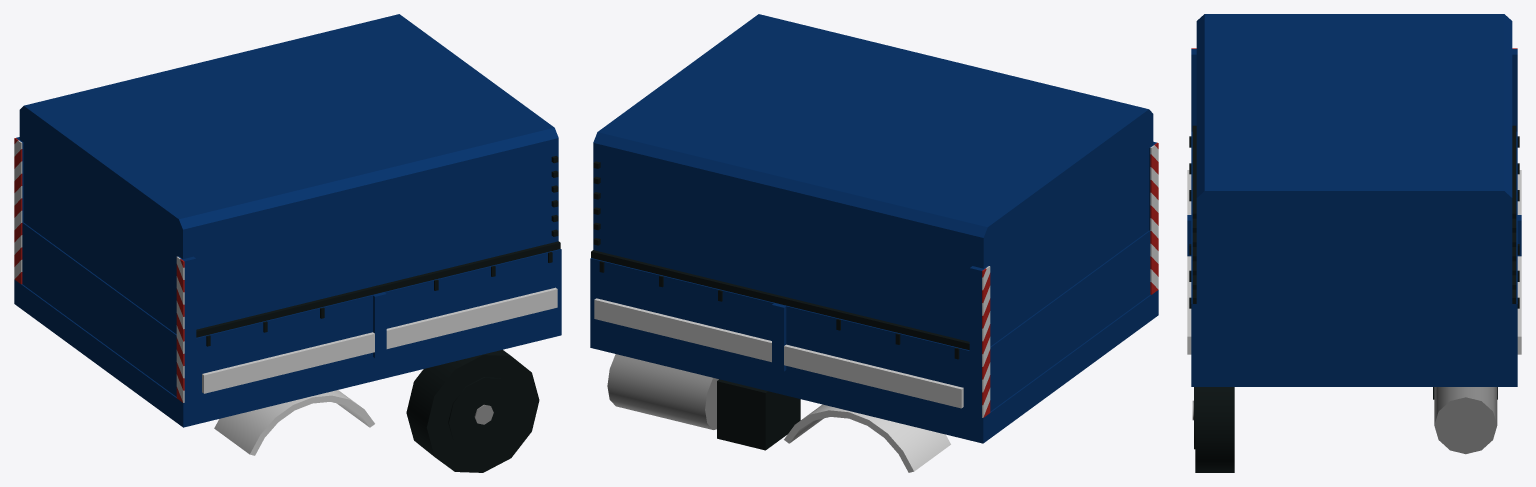
The model's file is man-le-18-280-body.glb.
The picture shows the model from 3 angles, left to right: view 1: azimuth 30°, elevation 25°; view 2: azimuth 150°, elevation 25°; view 3: azimuth 270°, elevation 25°; orthographic projection. The views are drawn at different scales.
Visible parts, largest first — view 1: body; view 2: body; view 3: body.
Boxes of the visible parts, x1=… form: body: x1=14, y1=14, x2=561, y2=472; body: x1=590, y1=14, x2=1158, y2=472; body: x1=1187, y1=14, x2=1521, y2=472.
Bounding box in the file's own units: 3.22 × 2.63 × 2.55.
